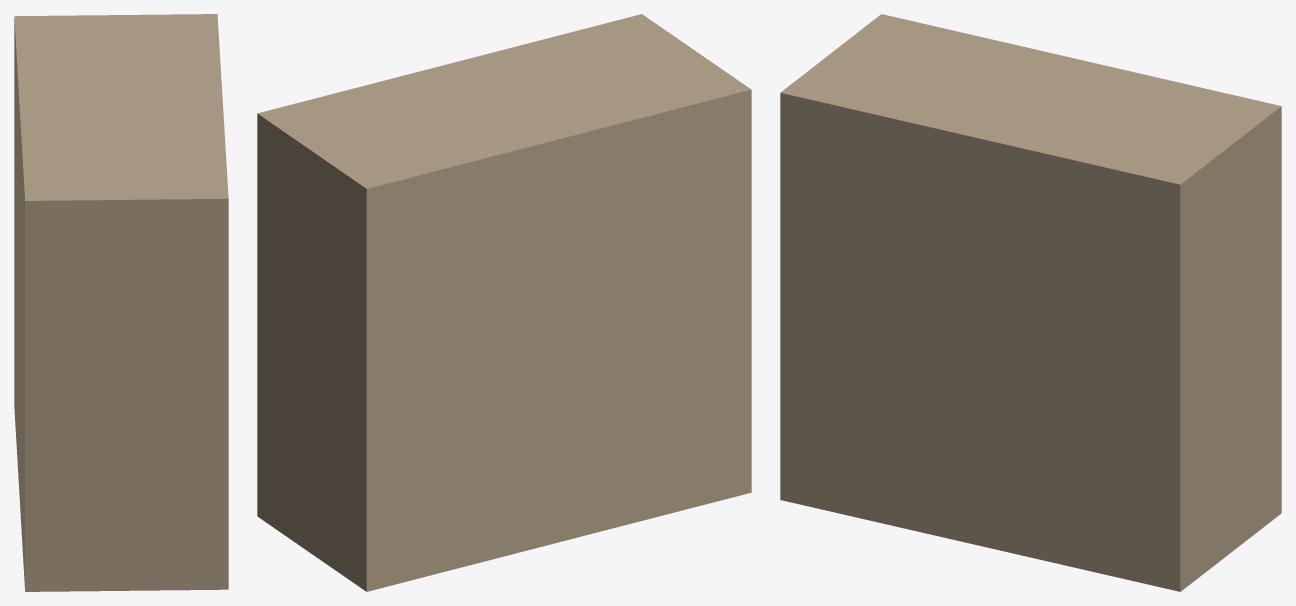
File: bld_99532147.dae
3 views of the same model, side by side, from view 1: azimuth 30°, elevation 25°; view 2: azimuth 150°, elevation 25°; view 3: azimuth 270°, elevation 25° (orthographic). The views are drawn at different scales.
Visible parts, largest first — view 1: bld_99532147; view 2: bld_99532147; view 3: bld_99532147.
Part boxes in pixels (x1,y1,x2,y2): bld_99532147: (14, 14, 228, 591); bld_99532147: (257, 14, 751, 591); bld_99532147: (780, 14, 1281, 591).
Bounding box in the file's own units: 7.19 × 8.93 × 8.
